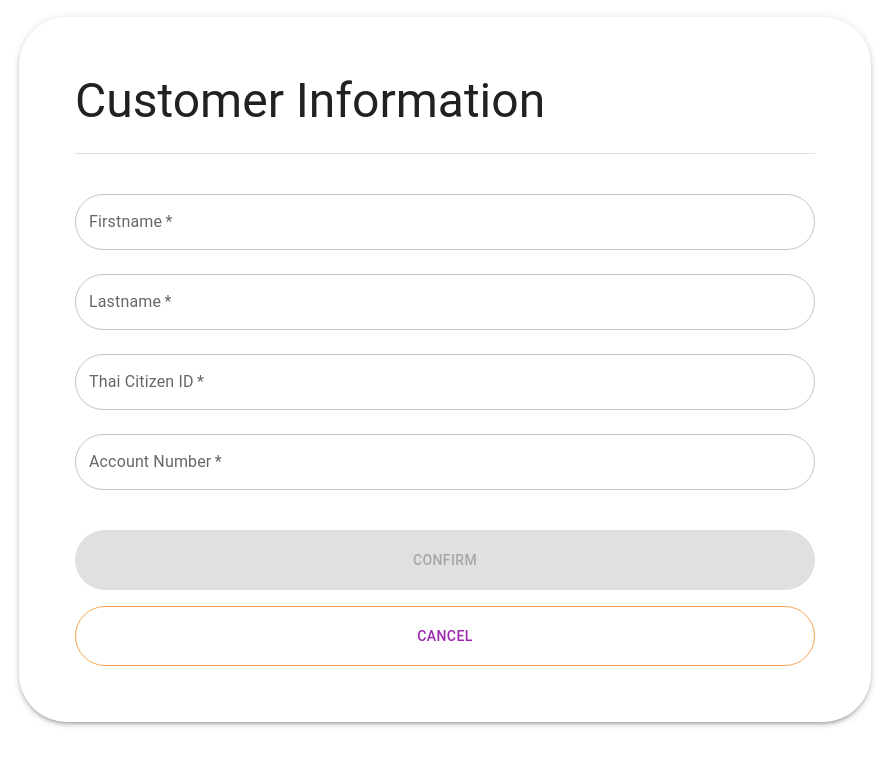
it: CustomerInfo Page › shows validation error for invalid citizen ID
The width and height of the screenshot is (891, 767).
In the field labelled "Thai Citizen ID *": [445, 382] box [91, 354, 799, 410], type "123"
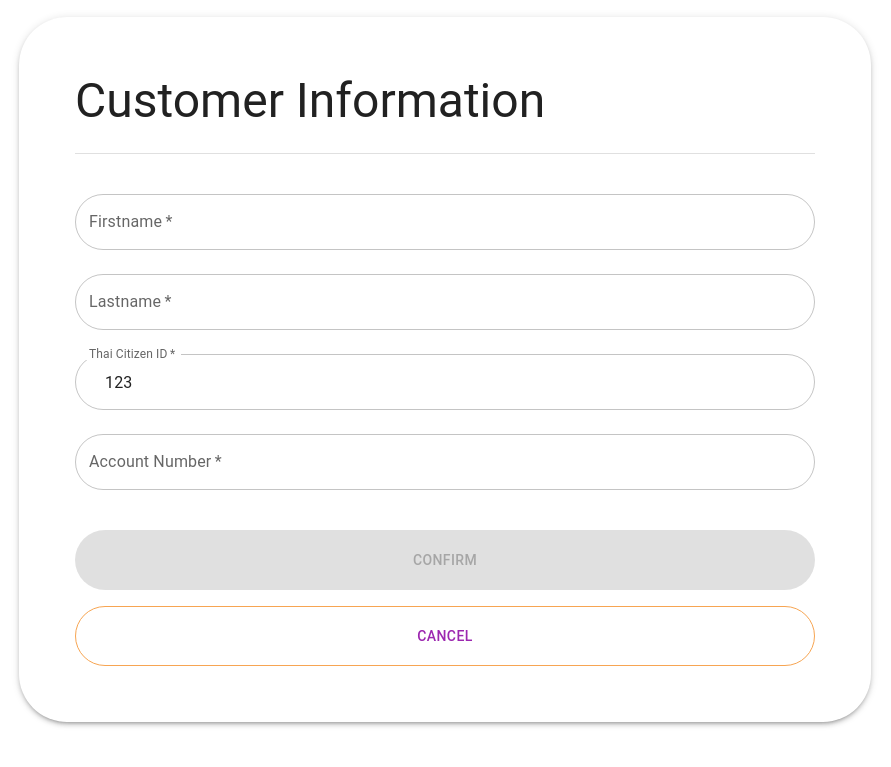
Leave the field labelled "Thai Citizen ID *", box [91, 354, 799, 410]
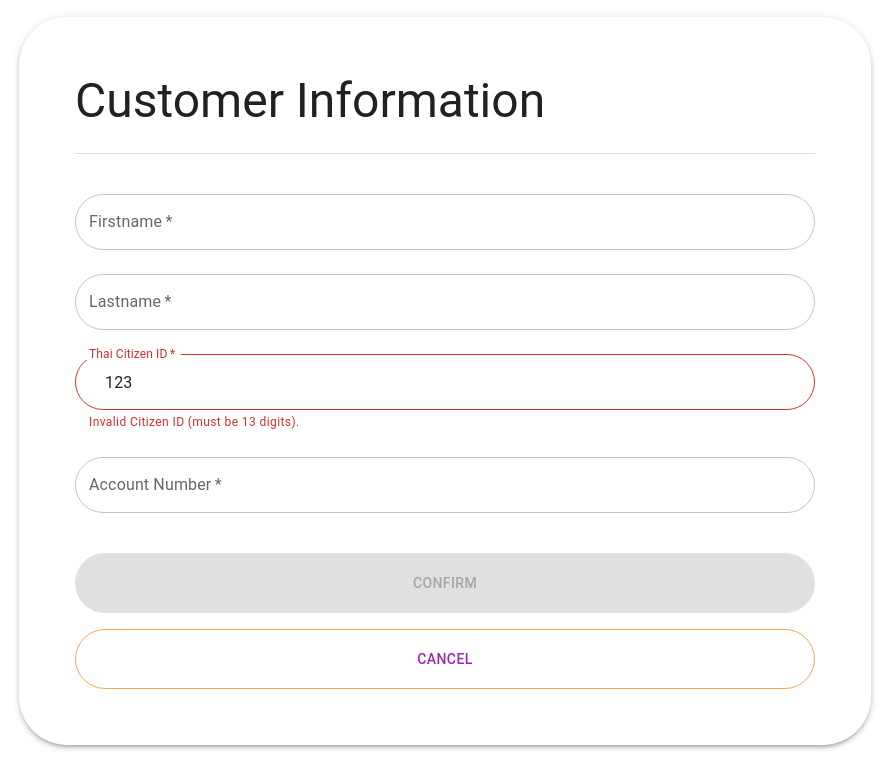
Expected: the text "Invalid Citizen ID (must be 13 digits)." is shown, [89, 415, 300, 429]
